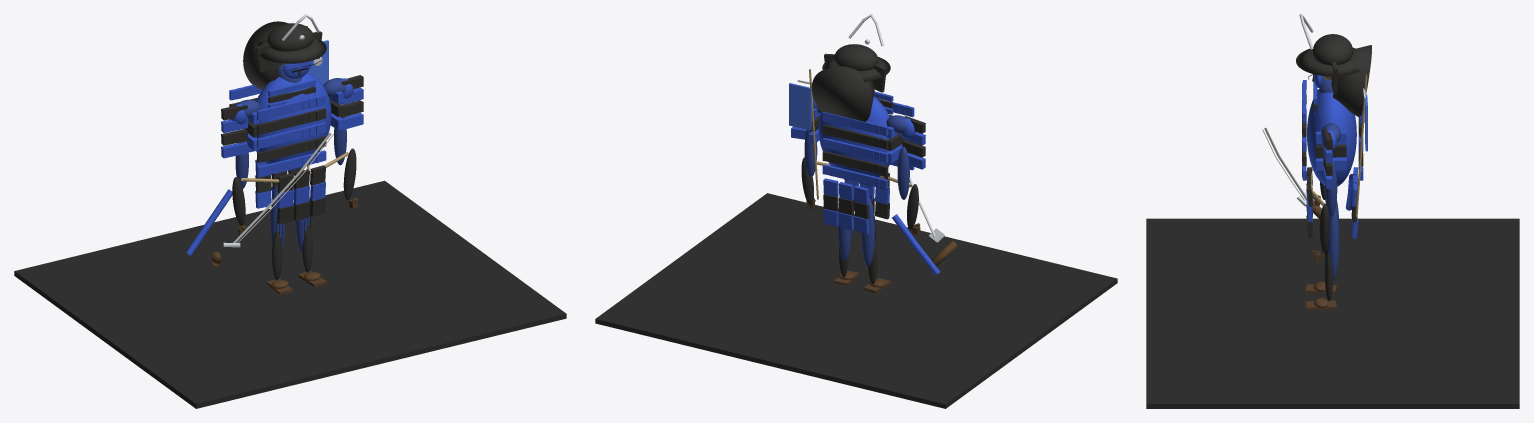
File: samurai_character.glb
The picture shows the model from 3 angles, left to right: view 1: azimuth 30°, elevation 25°; view 2: azimuth 150°, elevation 25°; view 3: azimuth 270°, elevation 25°; orthographic projection. The views are drawn at different scales.
Parts seen in each view (by area): view 1: matte charcoal inspection plinth, rounded do cuirass silhouette, rear shikoro neck guard flare, segmented kabuto helmet bowl, wide kabuto brim, lacquered saya scabbard at left hip, left kote forearm guard, right kote forearm guard; view 2: matte charcoal inspection plinth, rear shikoro neck guard flare, rounded do cuirass silhouette, cloth sashimono banner panel, segmented kabuto helmet bowl, left hakama trouser leg, left armored upper arm, lacquered saya scabbard at left hip; view 3: matte charcoal inspection plinth, rounded do cuirass silhouette, rear shikoro neck guard flare, segmented kabuto helmet bowl, wide kabuto brim, right hakama trouser leg, right armored upper arm, right kote forearm guard, bamboo sashimono back pole.
Part boxes in pixels (x1,y1,x2,y2): matte charcoal inspection plinth: [14, 180, 566, 408]; rounded do cuirass silhouette: [256, 73, 331, 170]; rear shikoro neck guard flare: [243, 21, 287, 89]; segmented kabuto helmet bowl: [267, 23, 313, 51]; wide kabuto brim: [254, 38, 326, 63]; lacquered saya scabbard at left hip: [186, 189, 232, 255]; left kote forearm guard: [232, 177, 245, 225]; right kote forearm guard: [343, 148, 356, 199]; matte charcoal inspection plinth: [595, 193, 1117, 408]; rear shikoro neck guard flare: [811, 66, 874, 126]; rounded do cuirass silhouette: [818, 96, 890, 182]; cloth sashimono banner panel: [789, 83, 811, 130]; segmented kabuto helmet bowl: [834, 44, 878, 70]; left hakama trouser leg: [861, 197, 874, 266]; left armored upper arm: [897, 147, 909, 199]; lacquered saya scabbard at left hip: [892, 214, 940, 275]; matte charcoal inspection plinth: [1146, 218, 1519, 408]; rounded do cuirass silhouette: [1307, 88, 1356, 186]; rear shikoro neck guard flare: [1333, 45, 1371, 117]; segmented kabuto helmet bowl: [1313, 34, 1352, 65]; wide kabuto brim: [1296, 47, 1359, 76]; right hakama trouser leg: [1327, 208, 1339, 279]; right armored upper arm: [1325, 160, 1337, 216]; right kote forearm guard: [1319, 204, 1329, 252]; bamboo sashimono back pole: [1355, 74, 1367, 216].
Bounding box in the file's own units: 4 × 3.04 × 3.4.
